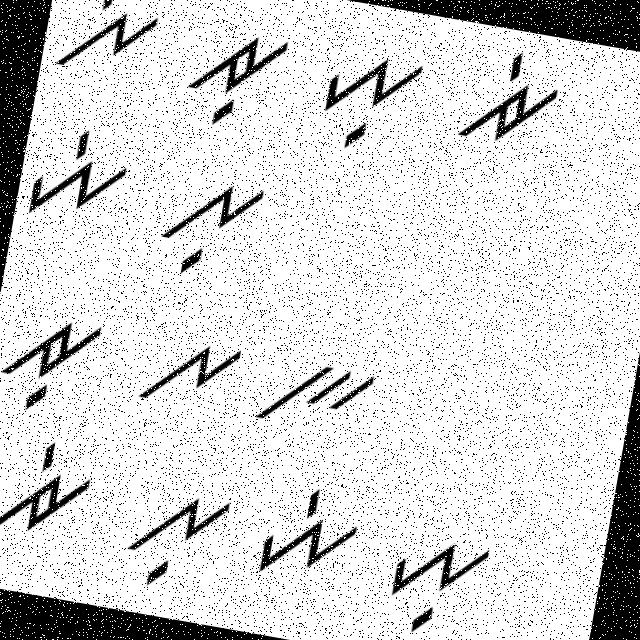la: (130, 323, 248, 419)
le: (47, 0, 171, 86)
lu: (152, 163, 276, 294), (115, 476, 234, 604)
re: (453, 40, 568, 164), (0, 428, 106, 553)
ru: (0, 293, 110, 428), (182, 14, 292, 140)
ye: (15, 118, 140, 237), (242, 479, 364, 592)
yu: (310, 42, 428, 165), (376, 526, 499, 639)
